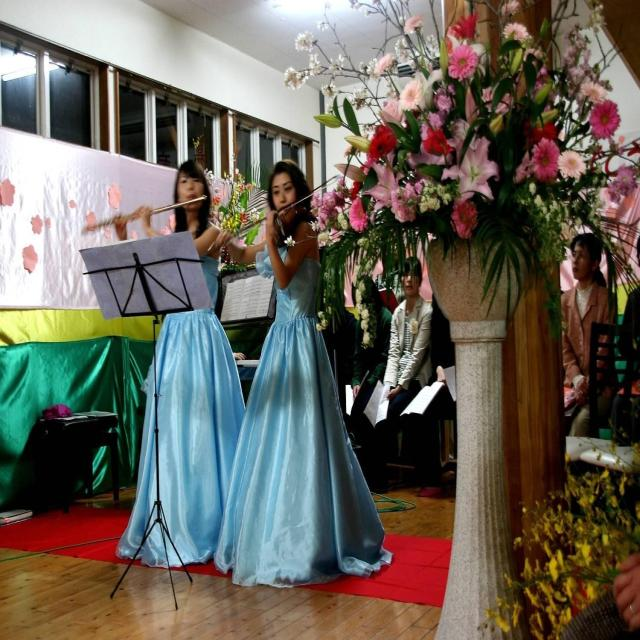violin: (272, 202, 310, 245)
